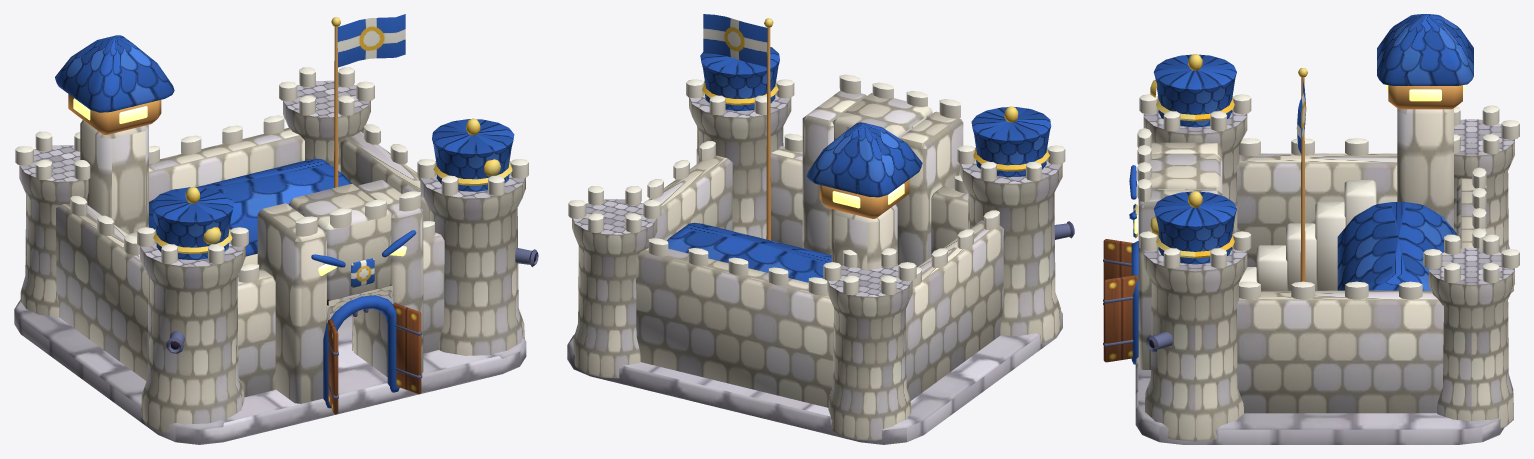
Rendered from company_fort.glb.
3 renders of one model, left to right at view 1: azimuth 30°, elevation 25°; view 2: azimuth 150°, elevation 25°; view 3: azimuth 270°, elevation 25°, orthographic. The views are drawn at different scales.
Visible parts, largest first — view 1: company_fort; view 2: company_fort; view 3: company_fort.
Part boxes in pixels (box(x1,y1,x2,y2)): company_fort: box(14, 14, 538, 444); company_fort: box(567, 14, 1074, 444); company_fort: box(1103, 14, 1519, 444).
Size of the model in its own units: 14.4 by 11.67 by 13.94.
Materials: 4 (4 with a texture image).
